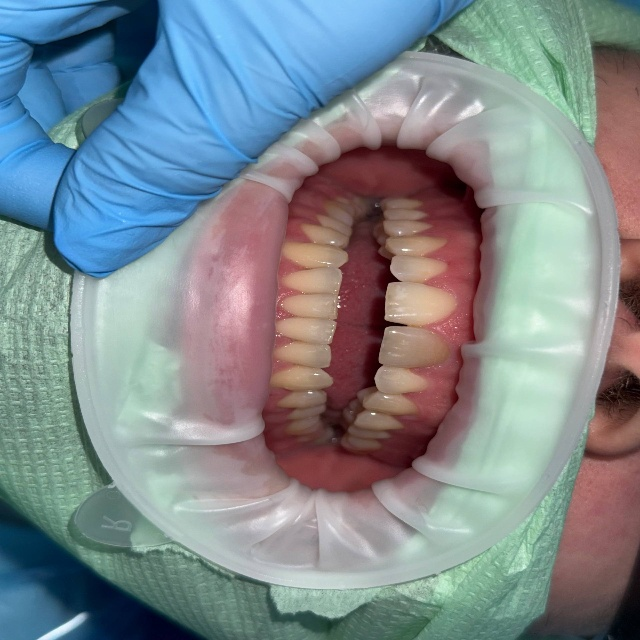clean_tooth: (292, 247, 355, 367), (193, 240, 251, 319), (214, 327, 263, 392)
plaque: (168, 0, 639, 277), (519, 523, 639, 639)
